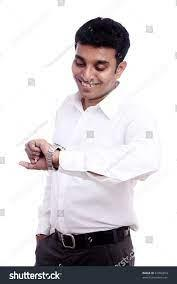Human: (26, 9, 150, 270)
